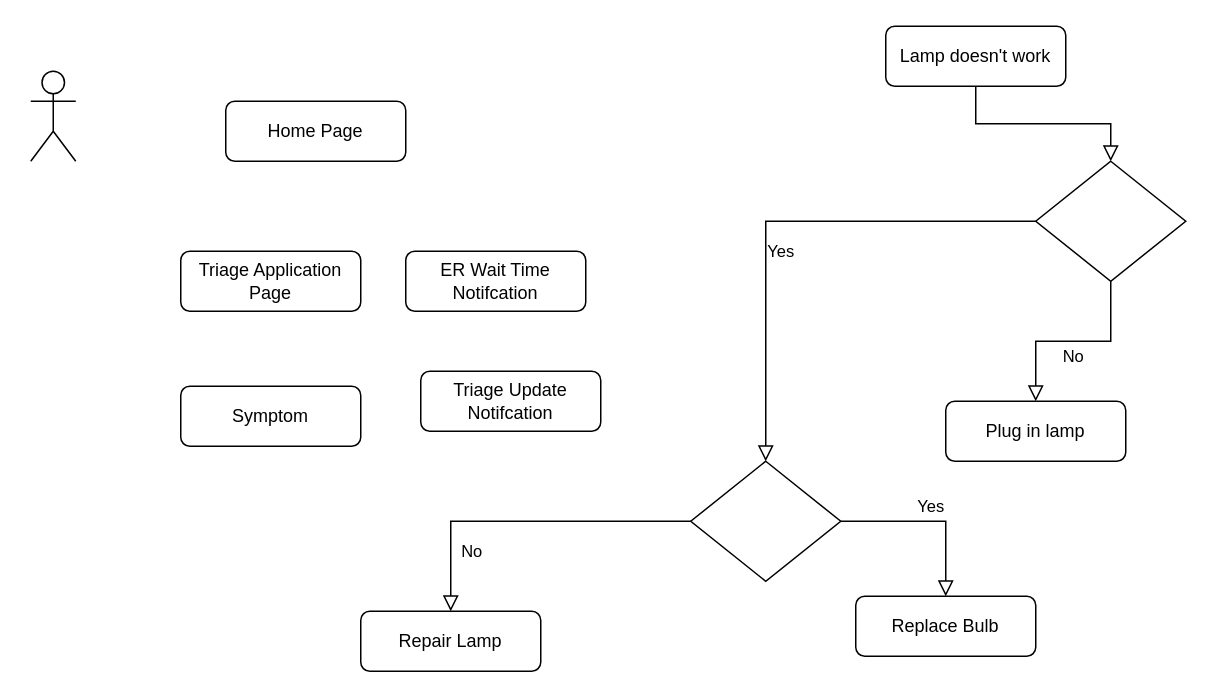
Image size: 1212x698. Some labels were removed from this diagram. The box of each missing label's shape, as (x1, y1, x2, y2) in pixels:
Bulb burned out?: (689, 460, 841, 581)
Lamp plugged in?: (1034, 160, 1186, 281)
Patient: (29, 70, 76, 161)
